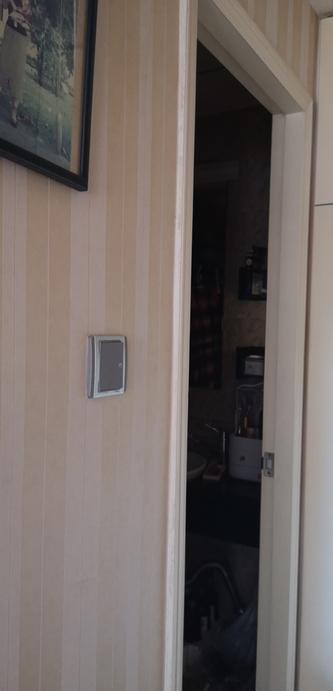switch: (93, 338, 133, 394)
